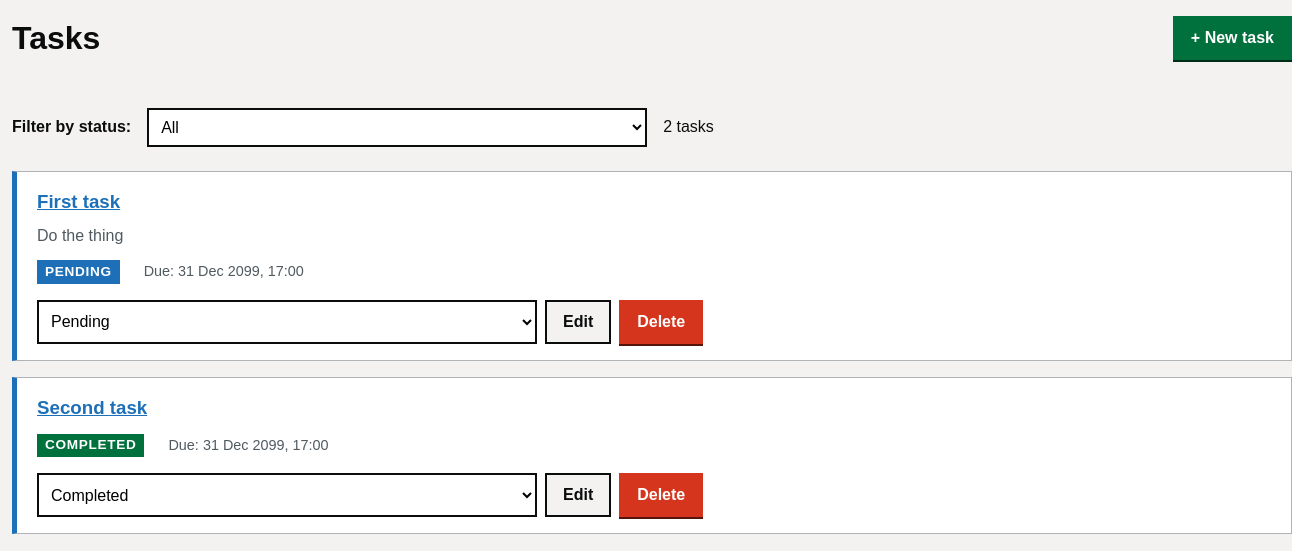
Scenario: TaskListPage › deletes a task after confirmation
Expected: the link "First task" is shown, 37,191 -> 120,212
Click the 1st button with class "btn-danger" at (661, 322), box 619,300 -> 703,344
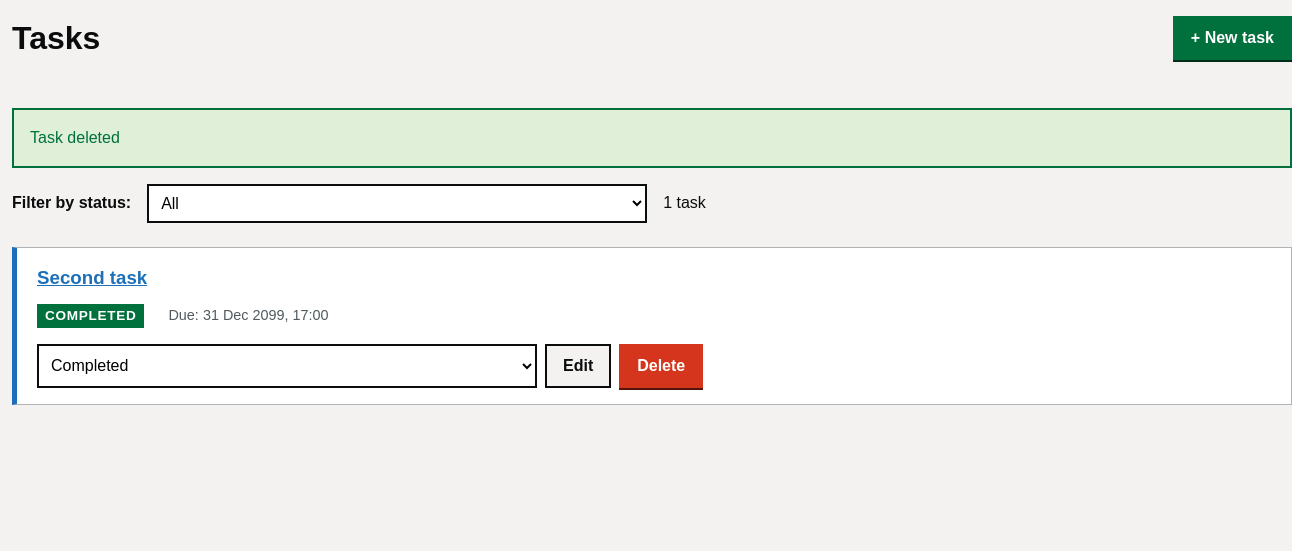
Expected: the link "First task" is gone
